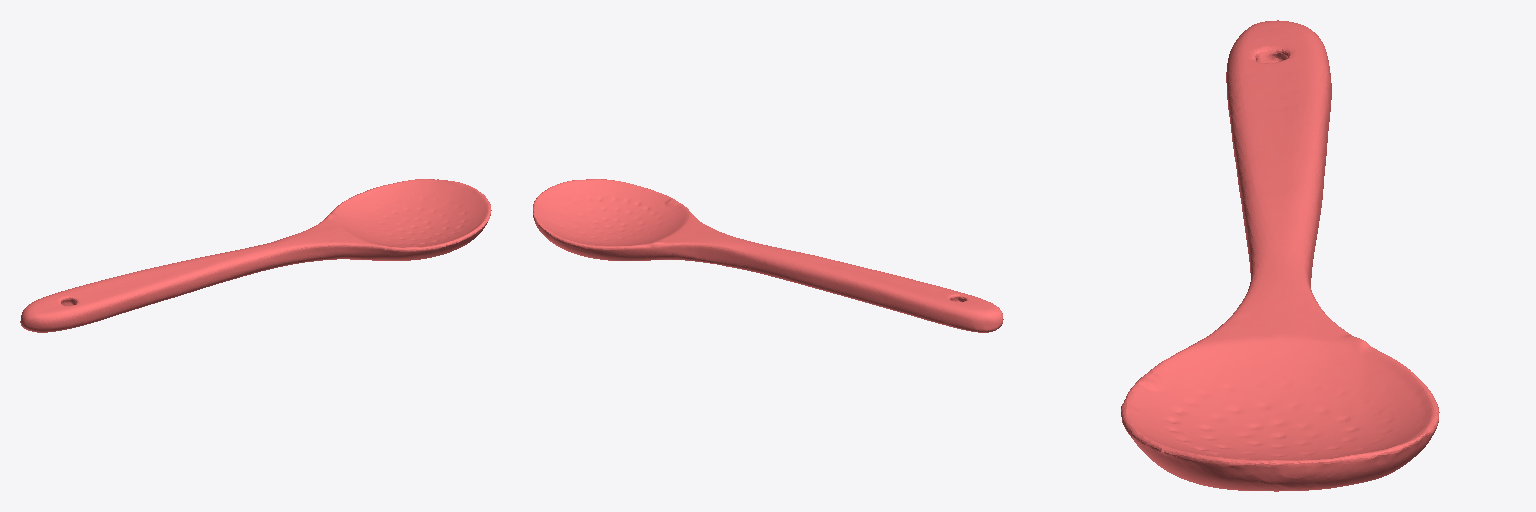
The robot description file, URDF, robot "model.urdf":
<robot name="model.urdf">
    <link name="baseLink">
        <contact>
            <lateral_friction value="0.4"/>
            <rolling_friction value="0.001"/>
            <spinning_friction value="0.001"/>
            <contact_cfm value="0.0"/>
            <contact_erp value="1.0"/>
        </contact>
        <inertial>
            <origin rpy="0 0 0" xyz="-0.04 0 0.05"/>
            <mass value="1.5"/>
            <inertia ixx="1e-3" ixy="0" ixz="0" iyy="1e-3" iyz="0" izz="1e-3"/>
        </inertial>
        <visual>
            <geometry>
                <mesh filename="nontextured.stl" scale="1 1 1"/>
            </geometry>
            <material name="black">
                <color rgba="1.0 0.5 0.5 1"/>
            </material>
        </visual>
        <collision>
            <geometry>
                <mesh filename="nontextured.stl" scale="1 1 1"/>
            </geometry>
        </collision>
    </link>
</robot>

--- What the picture shows (computed from the rendered views, not written in the file) ---
The picture shows the robot from 3 angles, left to right: view 1: azimuth 30°, elevation 25°; view 2: azimuth 150°, elevation 25°; view 3: azimuth 270°, elevation 25°; orthographic projection.
Robot: model.urdf — 1 links, 0 joints (none); root link baseLink; default pose: every joint at zero.
Links seen in each view (by area): view 1: baseLink; view 2: baseLink; view 3: baseLink.
Link boxes in pixels (<box>): baseLink: <box>20,179,491,332</box>; baseLink: <box>533,179,1003,332</box>; baseLink: <box>1121,20,1439,491</box>.
Bounding box of the posed robot: 0.2852 × 0.0818 × 0.018 m (x, y, z).
Meshes: 1 distinct files referenced, 1 mesh visuals loaded (1 binary STL).